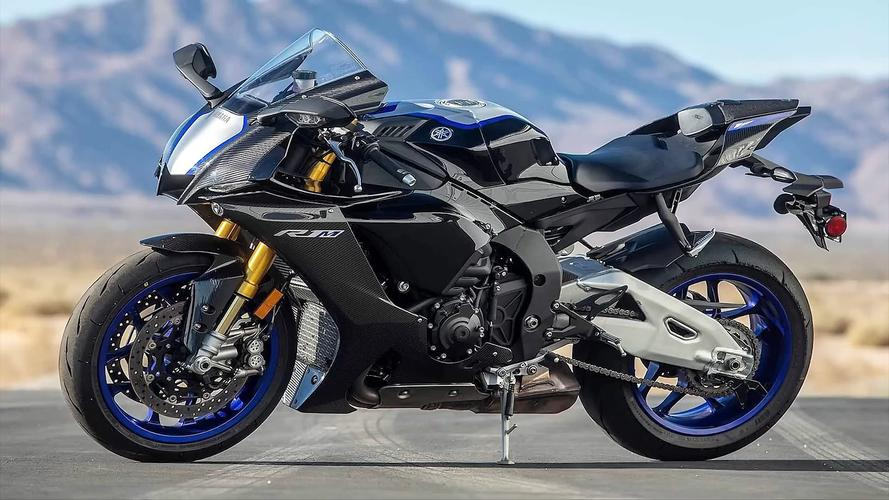摩托车: (45, 26, 844, 468)
